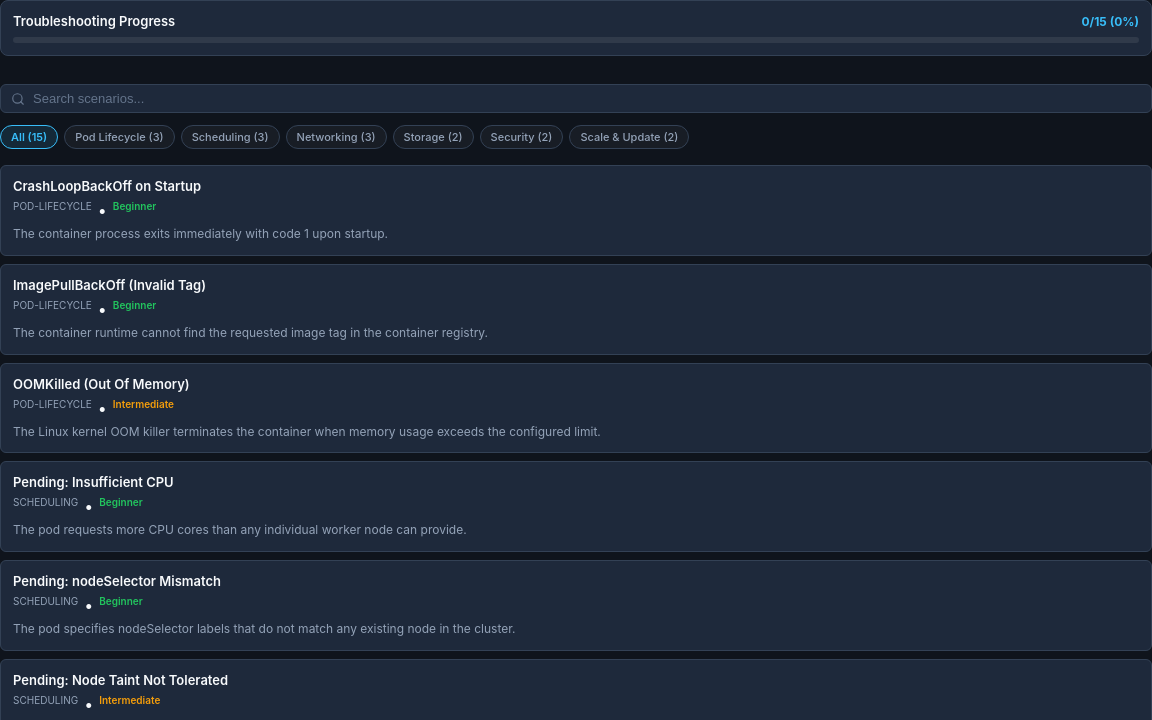
Test: ScenarioList › filters scenarios by search query and opens scenario detail on card click
Type "OOMKilled" into the field with placeholder "Search scenarios...".
click(587, 98); type("OOMKilled")  # box [33,91,1141,106]
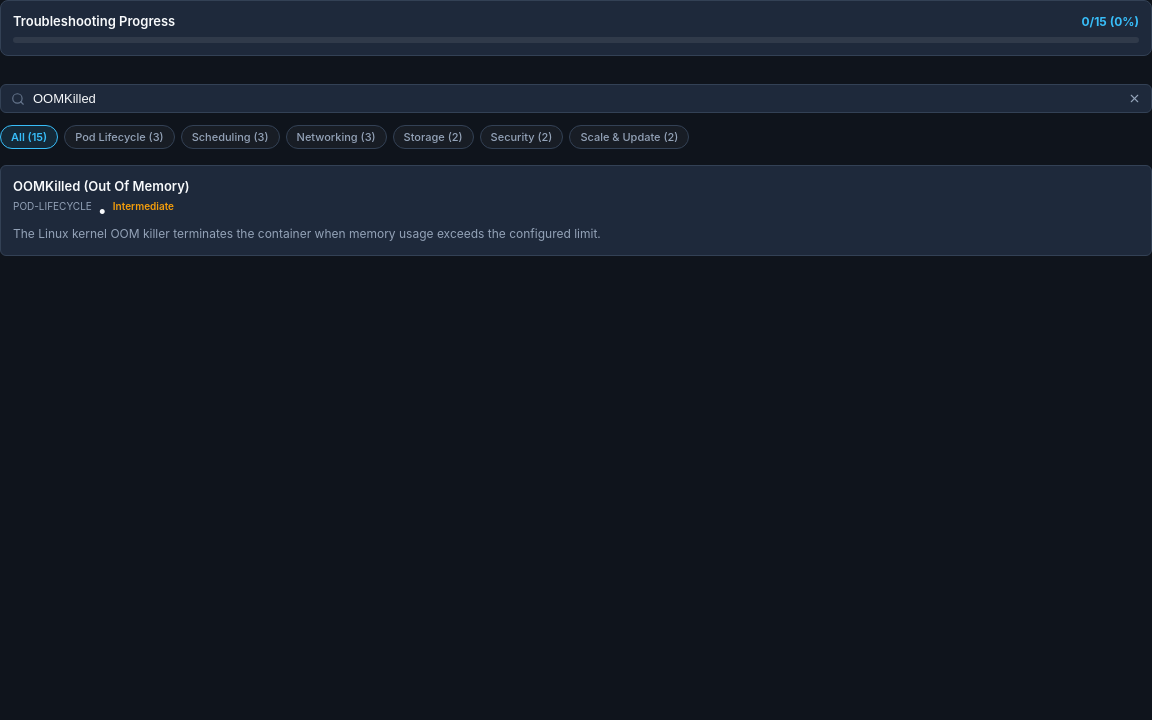
Expected: the text "OOMKilled (Out Of Memory)" is shown, [13,178,190,194]
Expected: the button "CrashLoopBackOff on Startup" is gone
// Click on the OOMKilled card
Click the button with test id "scenario-card-oomkilled".
click(101, 186)  # box [0,165,1151,256]
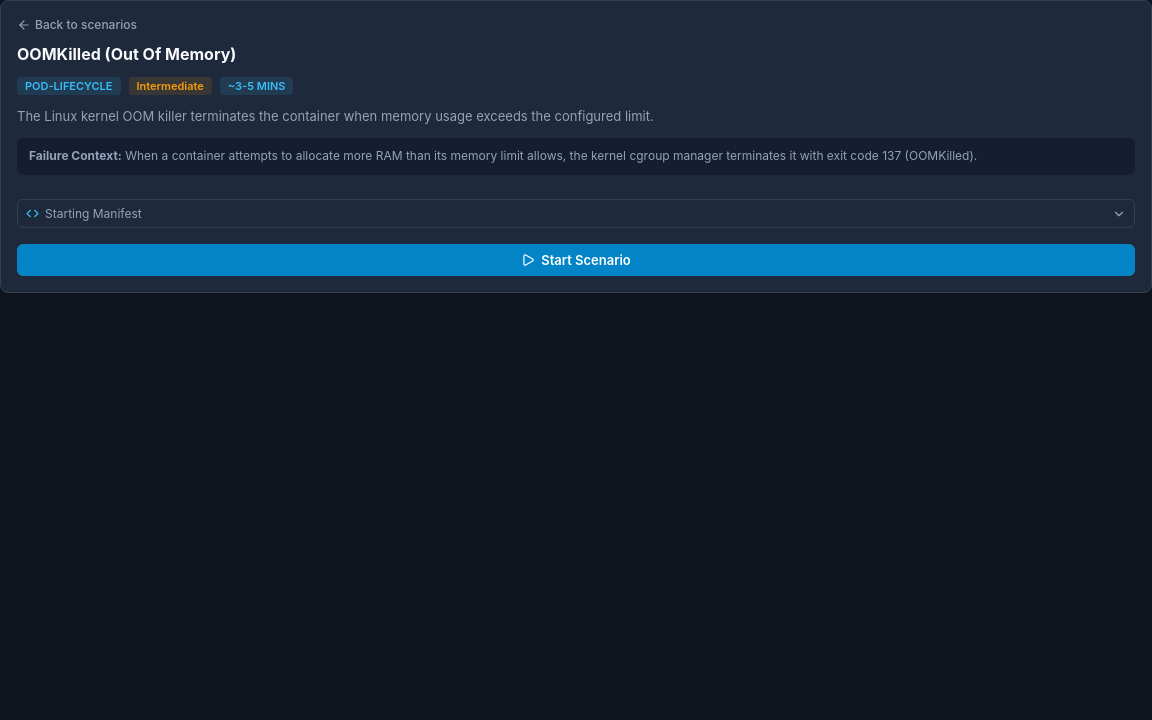
Expected: the element with test id "scenario-detail" is shown, [0,0,1151,293]
Expected: the button "Start Scenario" is shown, [17,244,1135,276]
